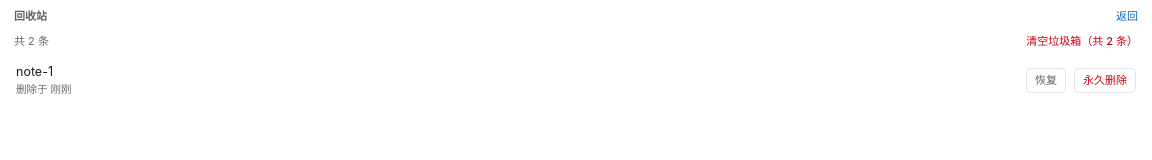
Test: TrashList › clears the whole trash once confirmed, and nothing on cancel
This screenshot has width=1152, height=160.
What coordinates should you click on to do the following:
click the button with test id "empty-trash"
I would click on:
 (1082, 41)
Its box is x1=1026 y1=32 x2=1138 y2=49.
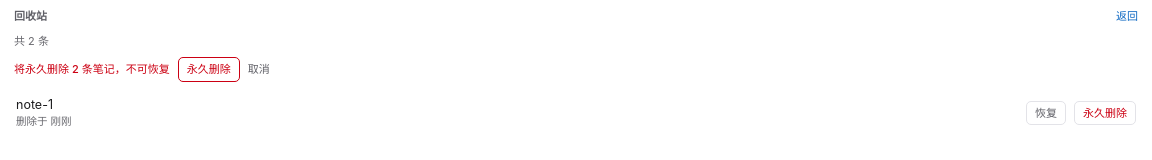
Expected: the element with test id "clear-confirm" shows "不可恢复", x1=14 y1=62 x2=170 y2=76
What coordinates should you click on to do the following:
click the button with test id "cancel-empty-trash"
I would click on:
 (259, 69)
Its box is x1=248 y1=61 x2=270 y2=78.
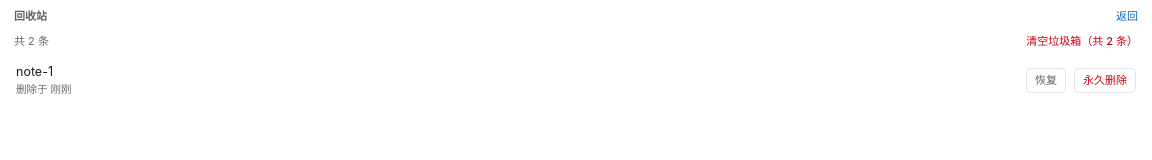
What coordinates should you click on to do the following:
click the button with test id "empty-trash"
I would click on:
 (1082, 41)
Its box is x1=1026 y1=32 x2=1138 y2=49.
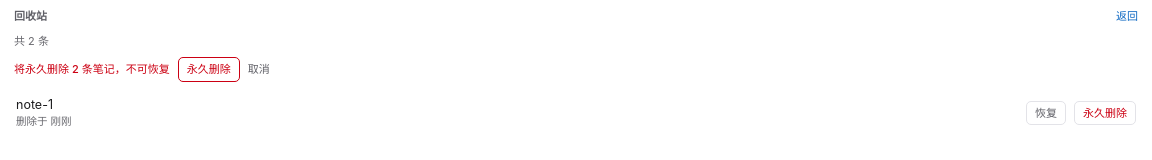
What coordinates should you click on to do the following:
click the button with test id "confirm-empty-trash"
I would click on:
 (209, 69)
Its box is x1=178 y1=57 x2=240 y2=82.
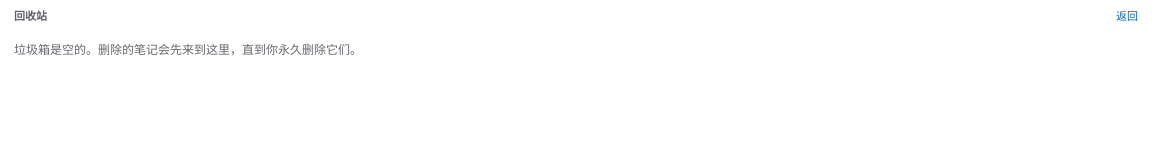
Expected: the text with class "hint" shows "垃圾箱是空的", x1=14 y1=42 x2=362 y2=56
